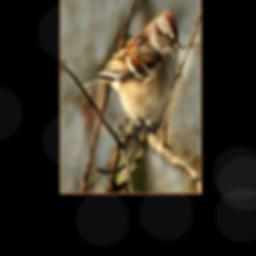Sparrow: (64, 10, 180, 156)
